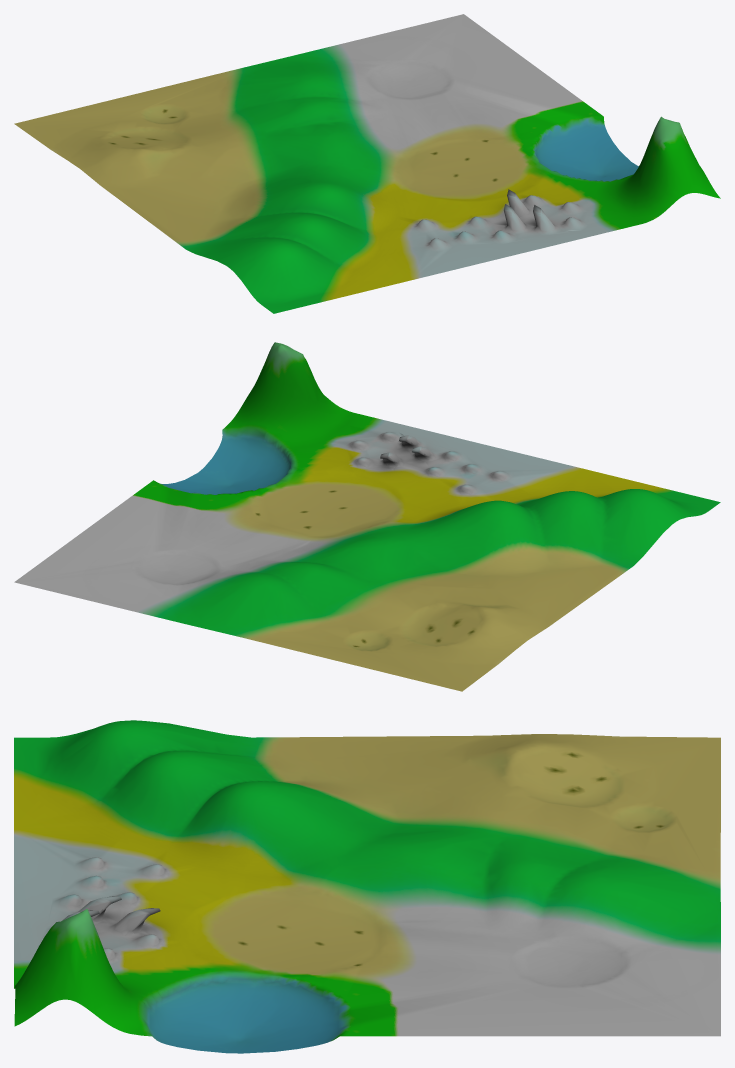
File: randomish_terrain.obj
3 renders of one model, top to bottom at view 1: azimuth 30°, elevation 25°; view 2: azimuth 150°, elevation 25°; view 3: azimuth 270°, elevation 25°, orthographic. The views are drawn at different scales.
Parts seen in each view (by area): view 1: Plane; view 2: Plane; view 3: Plane.
Part boxes in pixels (x1,y1,x2,y2): Plane: (14,14,720,313); Plane: (14,342,720,691); Plane: (14,720,720,1053).
Size of the model in its own units: 100 by 20.99 by 100.
